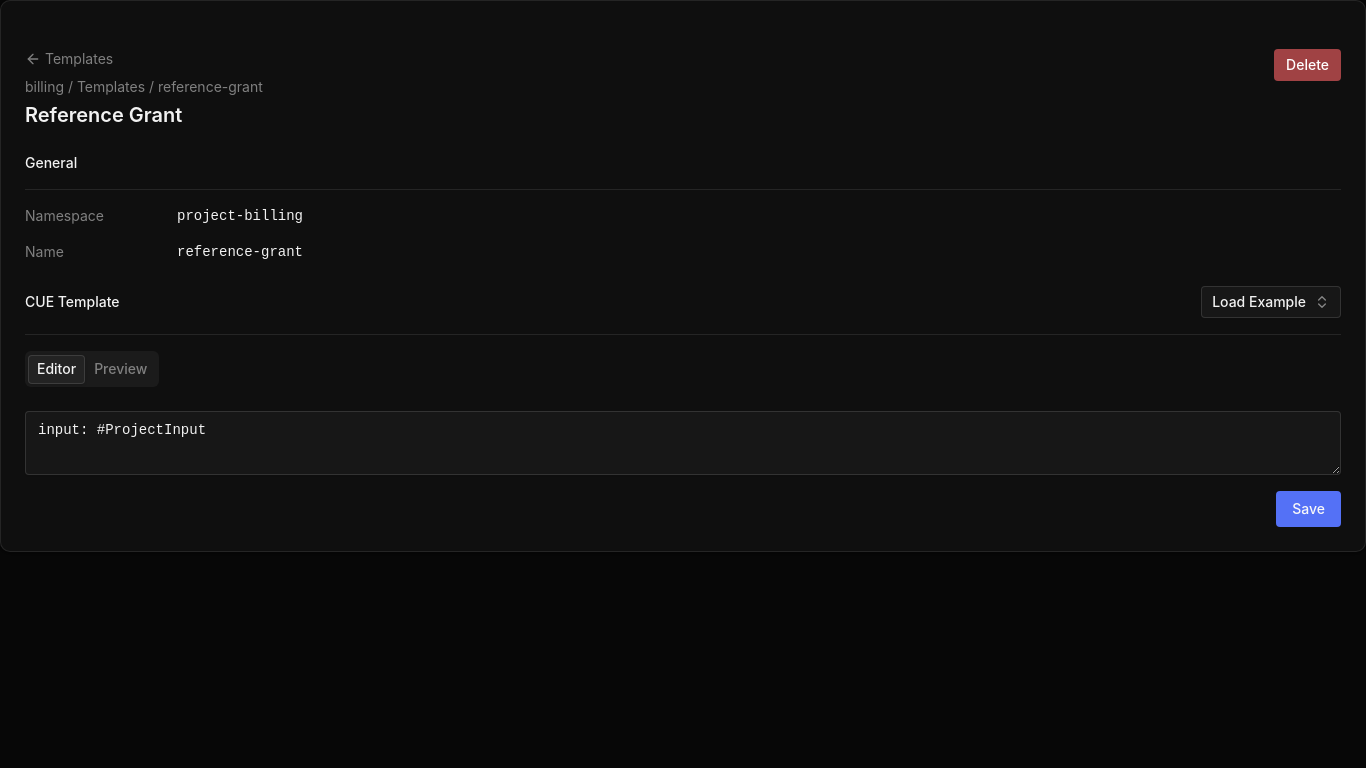
ProjectTemplateDetailPage (HOL-974) › opens delete dialog when Delete button is clicked
Click the button "Delete": coordinates (1308, 65) [1274, 49, 1341, 81]
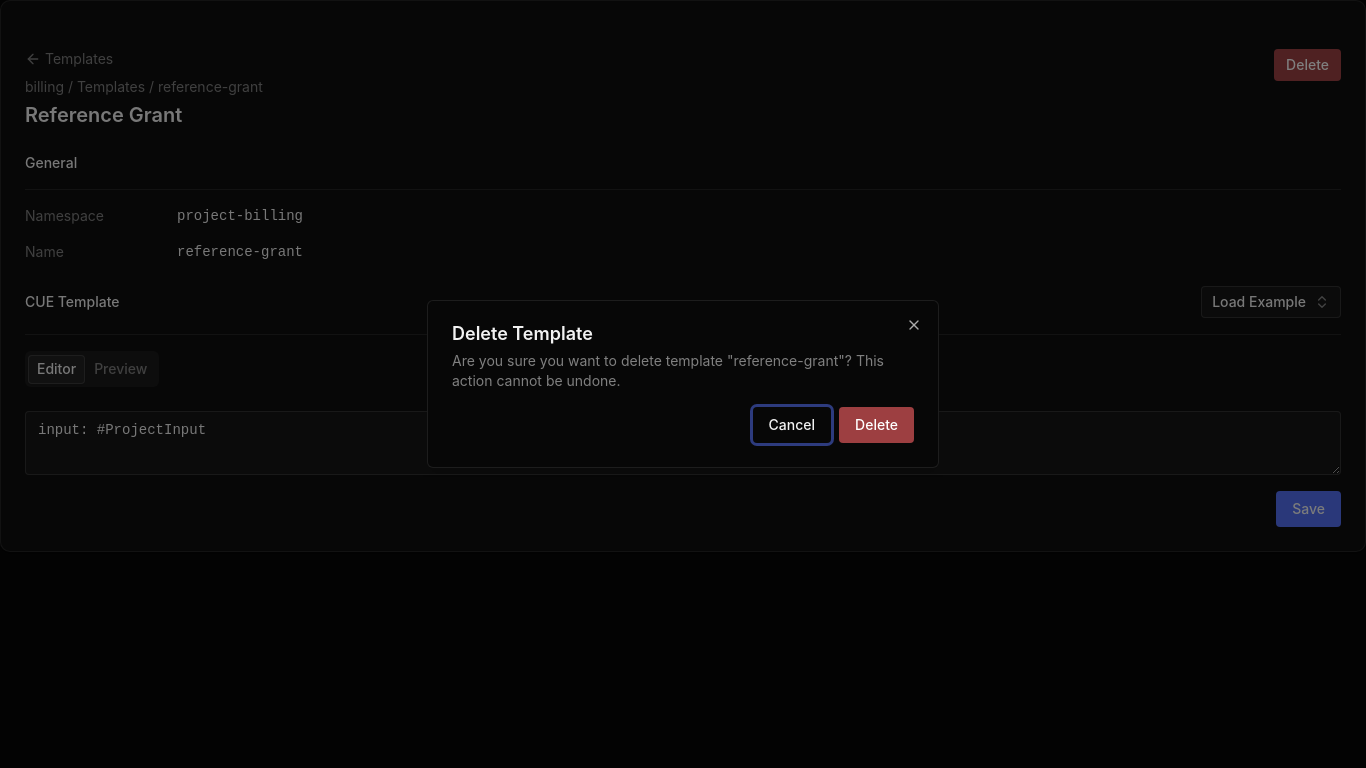
expect the dialog is shown: met, box [427, 300, 939, 468]
expect the heading "Delete Template" is shown: met, box [452, 323, 593, 344]
